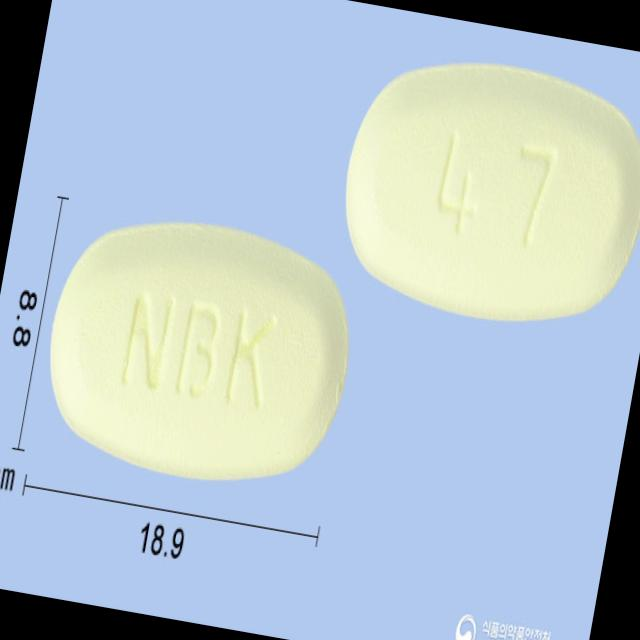Lathrocin-500mg: (29, 196, 366, 504), (328, 39, 640, 336)
